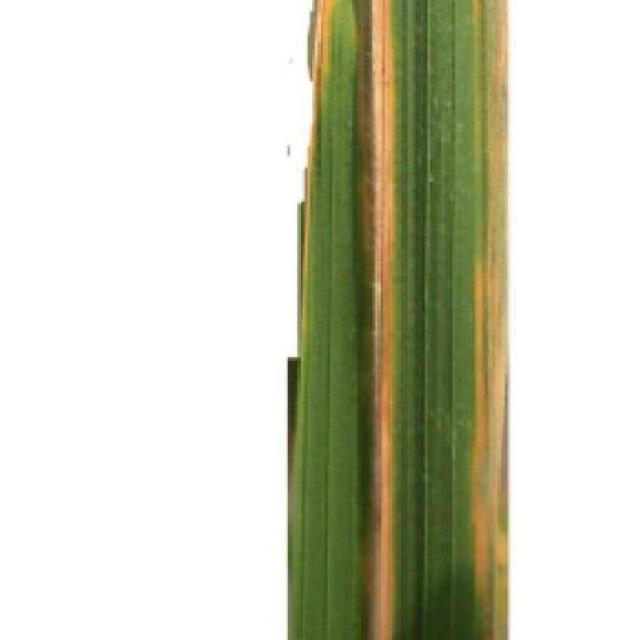Brown_Spot: (281, 0, 516, 640)
